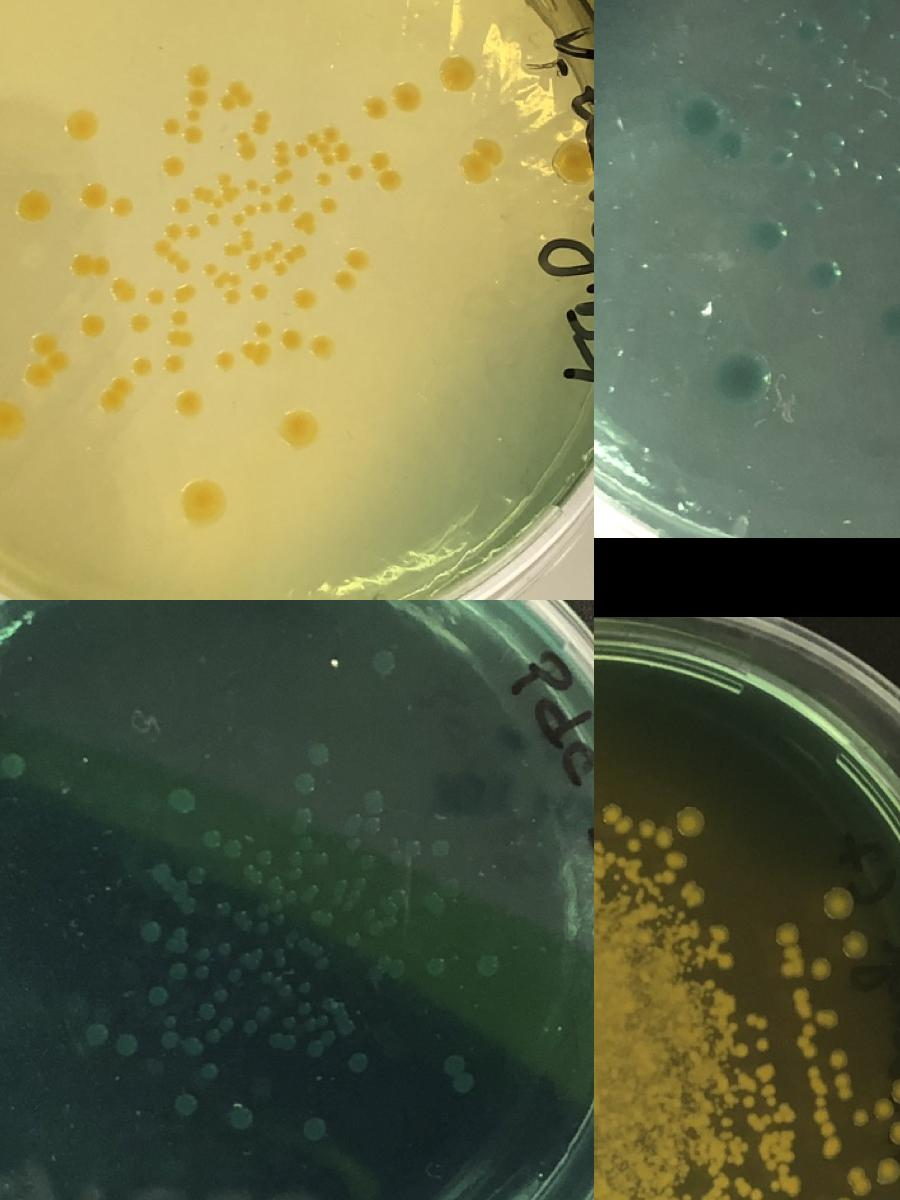pddamselae: (714, 351, 766, 403), (678, 95, 724, 139), (439, 1054, 476, 1095), (206, 1015, 233, 1044), (307, 1031, 336, 1057), (164, 926, 188, 956), (168, 890, 195, 915), (152, 864, 175, 891), (86, 1022, 110, 1046), (115, 1033, 139, 1057), (172, 1090, 196, 1114), (172, 790, 196, 814), (228, 1106, 252, 1130), (290, 773, 314, 797), (302, 1116, 326, 1140), (346, 1050, 370, 1074), (371, 649, 395, 673), (476, 954, 500, 978), (252, 903, 269, 936), (0, 752, 23, 776), (424, 954, 447, 978), (306, 743, 328, 767), (430, 836, 452, 860), (342, 821, 360, 850), (284, 852, 301, 882), (268, 1032, 294, 1049), (147, 986, 167, 1006), (198, 1062, 218, 1082), (201, 830, 220, 849), (142, 922, 160, 942), (224, 838, 242, 858), (160, 1014, 178, 1030), (214, 940, 232, 956), (278, 1015, 296, 1031), (168, 963, 185, 979), (226, 966, 243, 982), (238, 864, 255, 880), (314, 957, 330, 974), (367, 919, 384, 935), (389, 959, 406, 975), (389, 850, 406, 866), (254, 1006, 270, 1022), (276, 982, 292, 998), (282, 889, 298, 905), (296, 980, 312, 996), (296, 838, 312, 854), (312, 852, 328, 868), (364, 817, 380, 833), (404, 840, 420, 856), (241, 1019, 256, 1036), (214, 902, 232, 916), (185, 1039, 200, 1055), (188, 866, 203, 882), (194, 965, 209, 981), (198, 1005, 214, 1020), (249, 945, 264, 961), (255, 849, 270, 865), (258, 970, 273, 986), (313, 1013, 328, 1029), (345, 932, 360, 948), (384, 912, 399, 928), (264, 878, 281, 892), (360, 855, 375, 870), (164, 1033, 178, 1049), (196, 945, 210, 961), (214, 989, 228, 1005), (296, 1002, 312, 1016), (296, 810, 310, 824)
vharveyi: (26, 332, 70, 388), (457, 140, 499, 184), (332, 246, 368, 292), (745, 1102, 795, 1132), (304, 126, 340, 167), (368, 149, 400, 194), (556, 144, 592, 180), (171, 386, 206, 422), (100, 376, 134, 412), (184, 483, 218, 519), (64, 108, 99, 142), (440, 57, 474, 92), (391, 80, 424, 116), (282, 412, 316, 446), (152, 239, 188, 271), (192, 186, 241, 209), (14, 189, 47, 223), (219, 80, 252, 112), (654, 850, 686, 883), (600, 803, 632, 835), (640, 822, 675, 850), (70, 254, 110, 278), (186, 66, 208, 105), (756, 1064, 775, 1108), (820, 1124, 844, 1158), (221, 230, 252, 256), (806, 1068, 826, 1108), (676, 808, 704, 836), (822, 890, 850, 918), (770, 1130, 793, 1164), (0, 403, 19, 439), (768, 1176, 802, 1196), (874, 1158, 900, 1182), (164, 329, 193, 350), (80, 314, 104, 338), (82, 185, 106, 209), (110, 195, 134, 219), (162, 154, 186, 178), (308, 335, 332, 359), (362, 96, 386, 120), (680, 881, 703, 906), (236, 132, 256, 160), (239, 344, 268, 363), (280, 326, 302, 351), (212, 270, 239, 290), (792, 988, 810, 1018), (292, 286, 314, 310), (292, 212, 315, 234), (834, 1072, 852, 1100), (774, 922, 796, 944), (809, 957, 831, 979), (818, 1008, 840, 1030), (826, 1048, 848, 1070), (844, 934, 866, 956), (848, 1106, 870, 1128), (872, 1097, 894, 1119), (252, 110, 269, 136), (796, 1036, 816, 1058), (262, 242, 282, 263), (842, 1165, 862, 1185), (284, 245, 305, 263), (174, 285, 194, 303), (745, 1014, 767, 1030), (116, 284, 135, 302), (171, 197, 190, 215), (216, 352, 234, 371), (222, 287, 241, 305), (249, 282, 268, 300), (130, 358, 148, 376), (130, 314, 148, 332), (147, 287, 165, 305), (161, 118, 179, 136), (164, 356, 182, 374), (164, 222, 182, 240), (170, 309, 188, 327), (183, 127, 201, 145), (204, 211, 222, 229), (254, 322, 272, 340), (334, 144, 352, 162), (346, 163, 364, 181), (666, 903, 685, 920), (606, 852, 626, 868), (778, 963, 804, 975), (272, 168, 290, 185), (888, 1121, 900, 1145), (314, 171, 331, 187), (320, 198, 337, 214), (734, 1178, 749, 1196), (732, 1066, 746, 1084), (276, 198, 291, 214), (272, 261, 286, 277), (891, 1078, 900, 1102), (706, 943, 718, 960), (626, 838, 640, 852), (713, 927, 727, 941), (230, 214, 244, 226), (244, 179, 258, 191), (258, 203, 272, 215), (294, 144, 308, 156), (734, 1044, 746, 1058), (784, 947, 798, 959), (186, 111, 198, 123), (186, 226, 198, 238), (204, 264, 216, 276), (218, 174, 230, 186), (243, 205, 255, 217), (247, 258, 259, 270), (258, 184, 270, 196), (718, 954, 730, 966), (741, 1095, 753, 1107), (755, 1039, 767, 1051), (777, 1164, 789, 1176), (801, 1024, 813, 1036), (813, 1110, 825, 1122), (274, 141, 285, 153), (750, 1189, 762, 1200)
